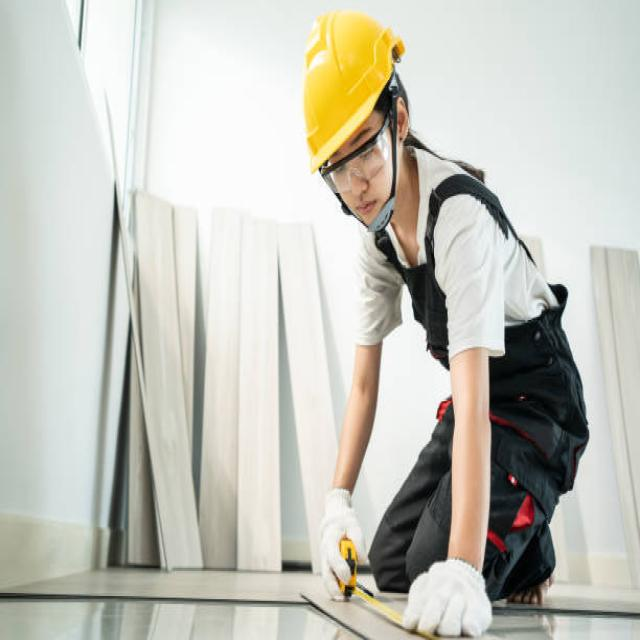gloves: (403, 560, 492, 640), (320, 488, 365, 599)
